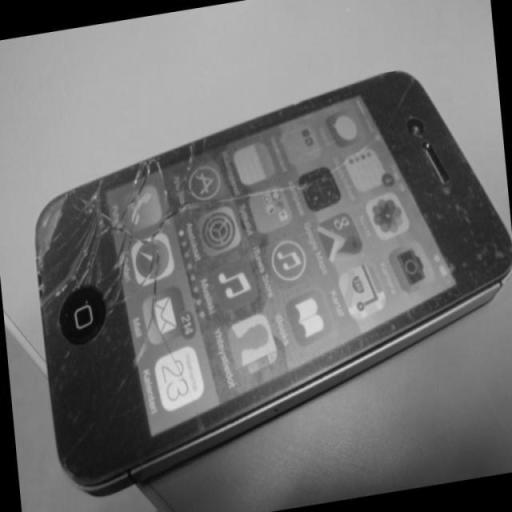phone: (35, 71, 511, 493)
